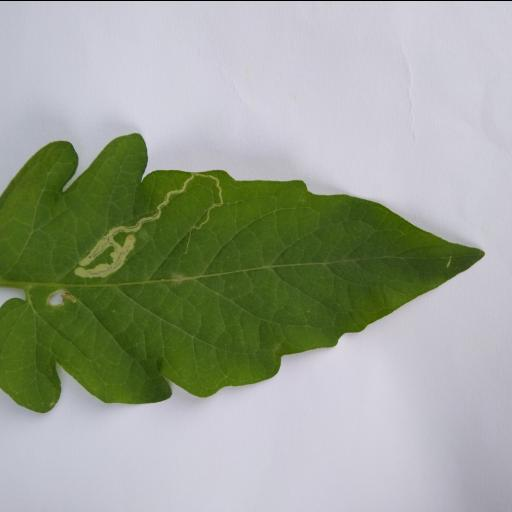disease_tomato: (0, 128, 484, 414)
